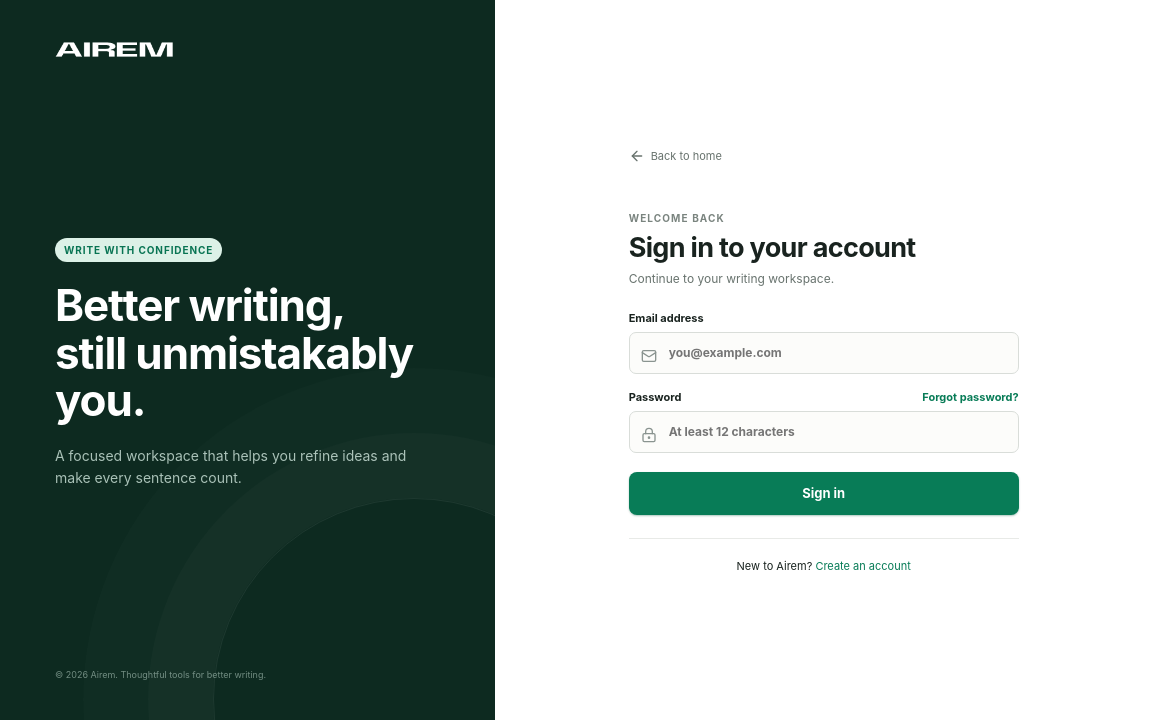
Scenario: authentication forms › reports an invalid login accessibly
This screenshot has width=1152, height=720.
Type "person@example.test" into the field labelled "Email address" at (824, 352), box top-left (629, 332), bottom-right (1019, 374)
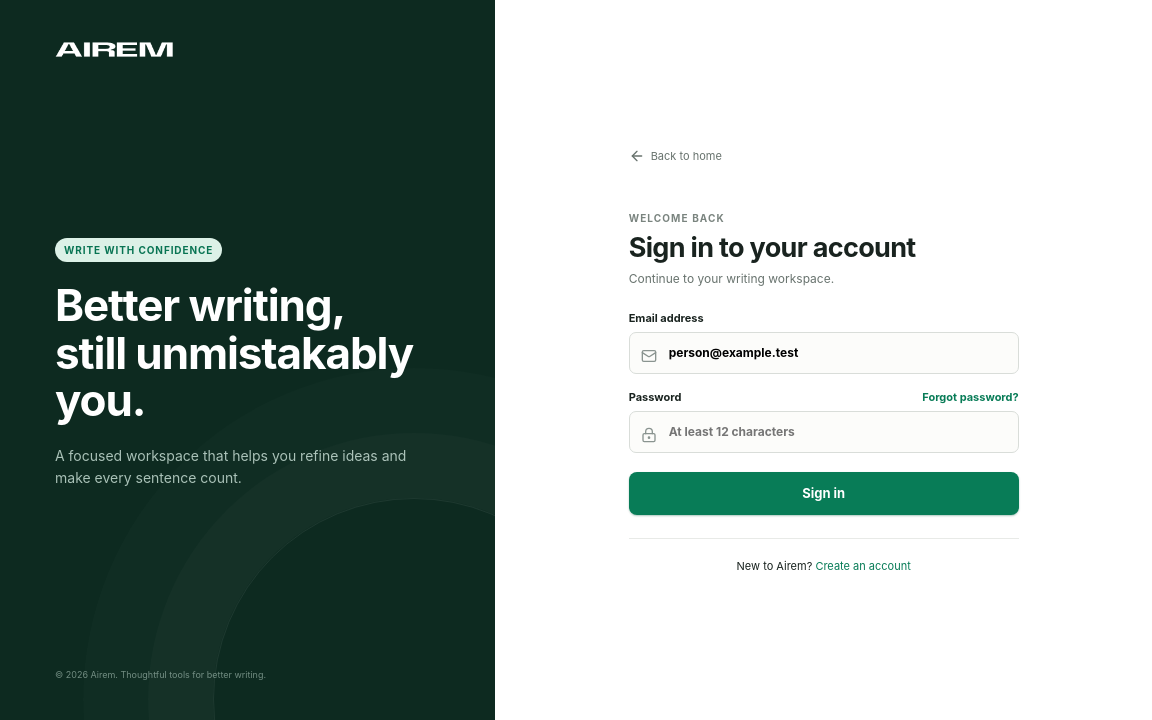
Type "not-the-password" into the password field labelled "Password Forgot password?" at (824, 432), box top-left (629, 410), bottom-right (1019, 452)
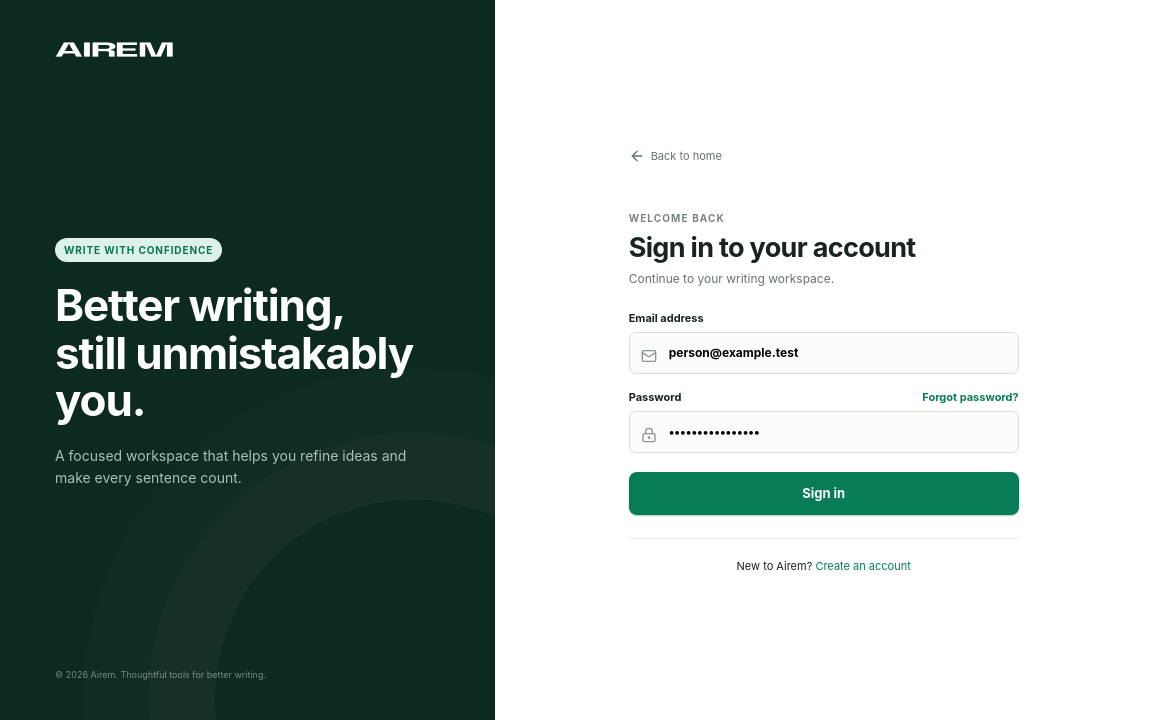
Click the button "Sign in" at (824, 493), box top-left (629, 472), bottom-right (1019, 514)
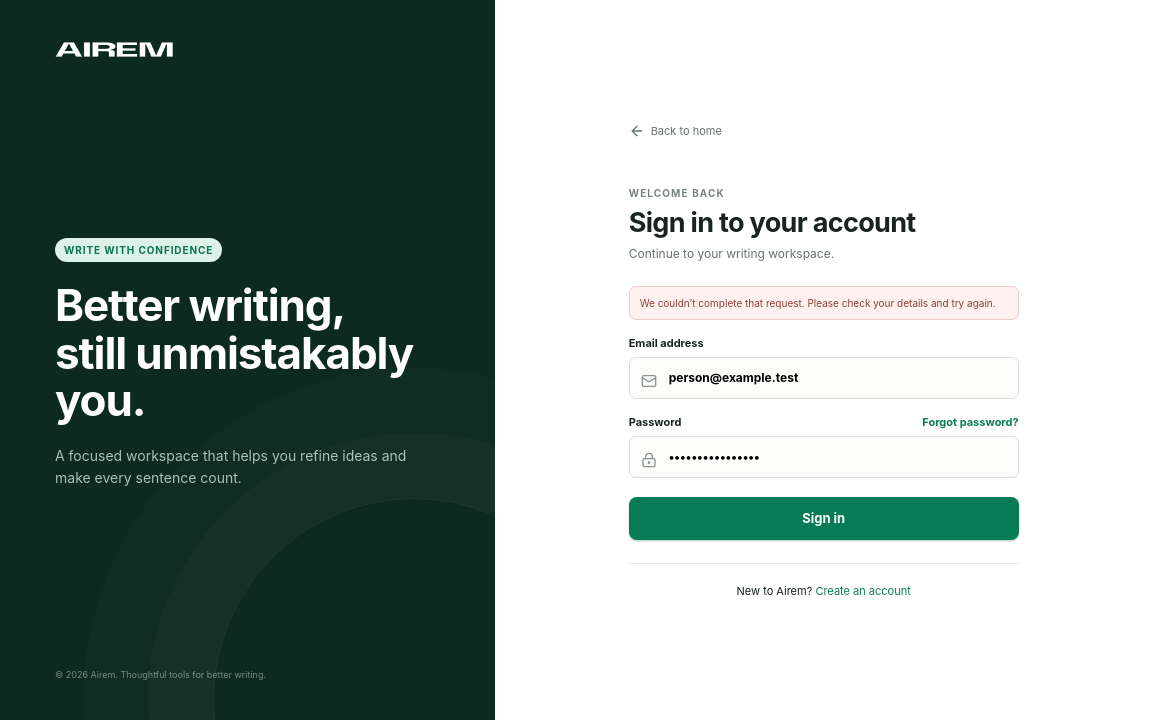
Result: the message shows "couldn’t complete" at top-left (640, 296), bottom-right (996, 308)
